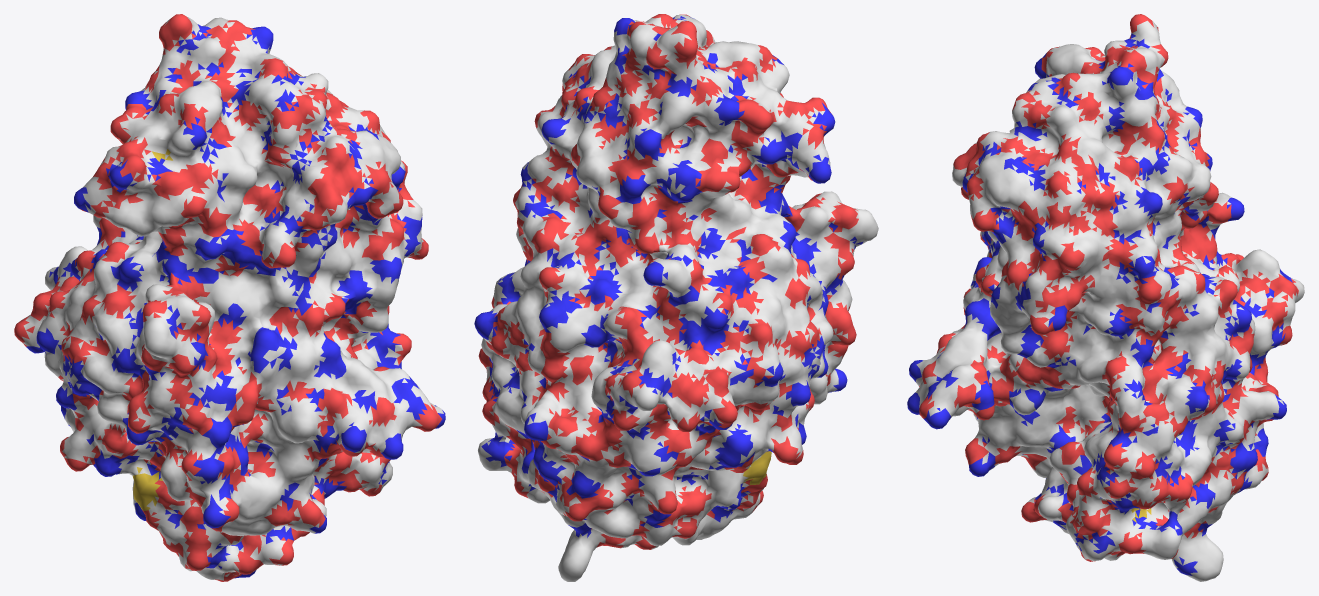
File: 1kbb_Clean.objForEric.obj
3 views of the same model, side by side, from view 1: azimuth 30°, elevation 25°; view 2: azimuth 150°, elevation 25°; view 3: azimuth 270°, elevation 25° (orthographic). The views are drawn at different scales.
Parts seen in each view (by area): view 1: grp1; view 2: grp1; view 3: grp1.
Part boxes in pixels (x1,y1,x2,y2): grp1: [14, 14, 445, 581]; grp1: [474, 14, 878, 581]; grp1: [907, 14, 1304, 581].
Size of the model in its own units: 52.98 by 83.19 by 56.78.
